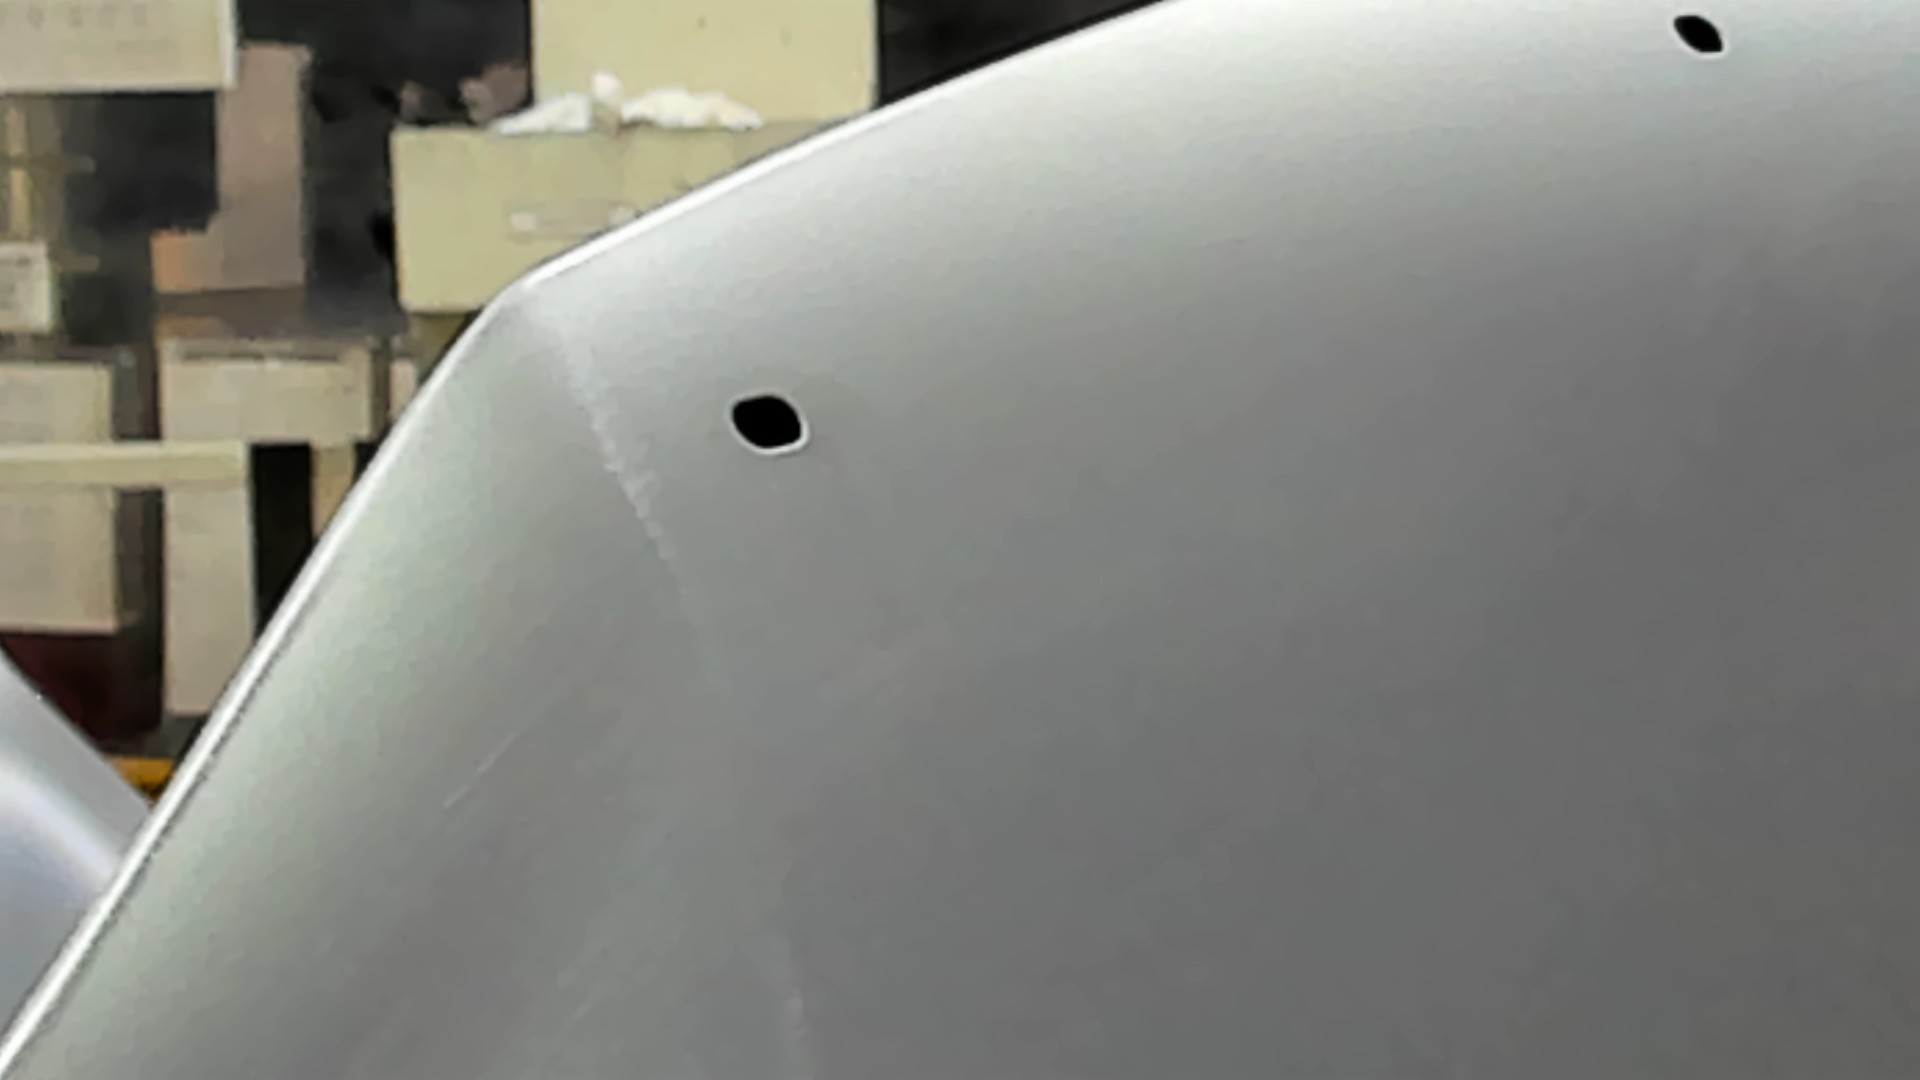amorfo: (723, 386, 814, 459), (1665, 8, 1730, 61)
